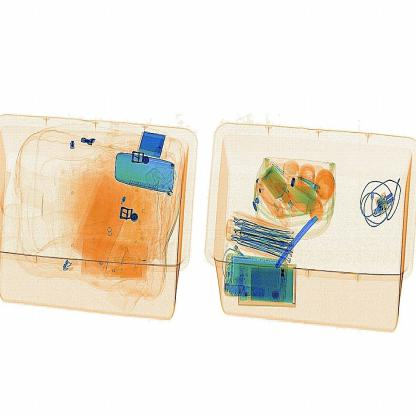pliers: (275, 207, 323, 270)
